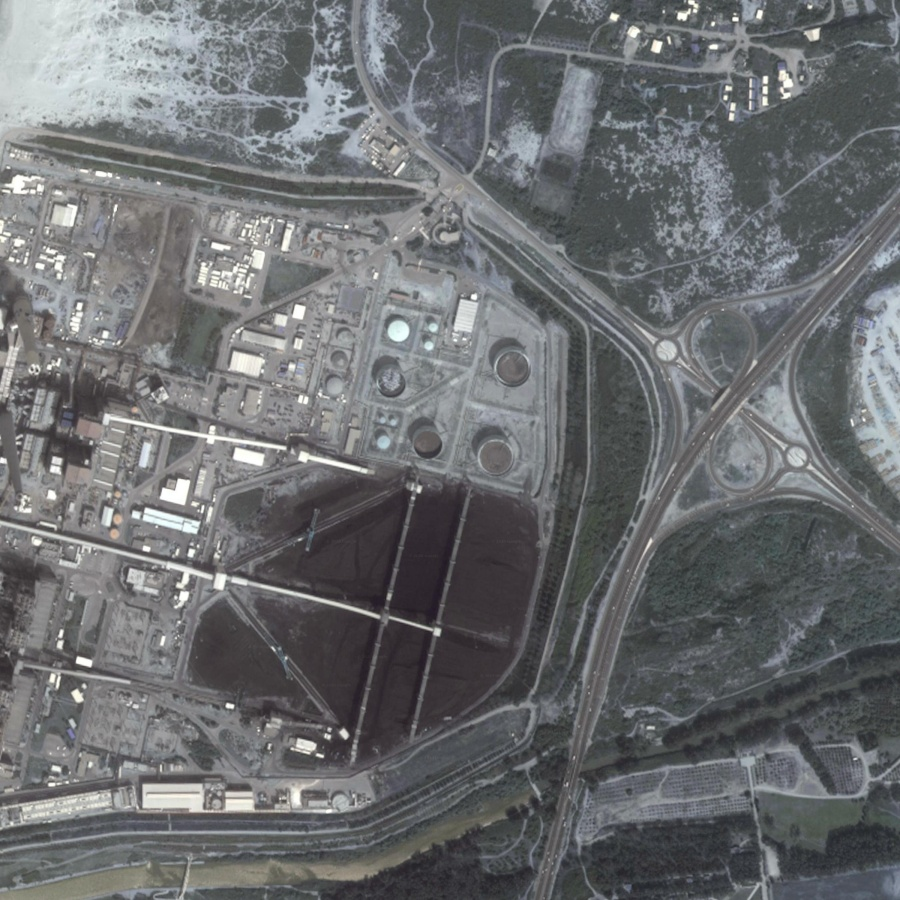PowerPlant: (183, 351, 544, 747)
